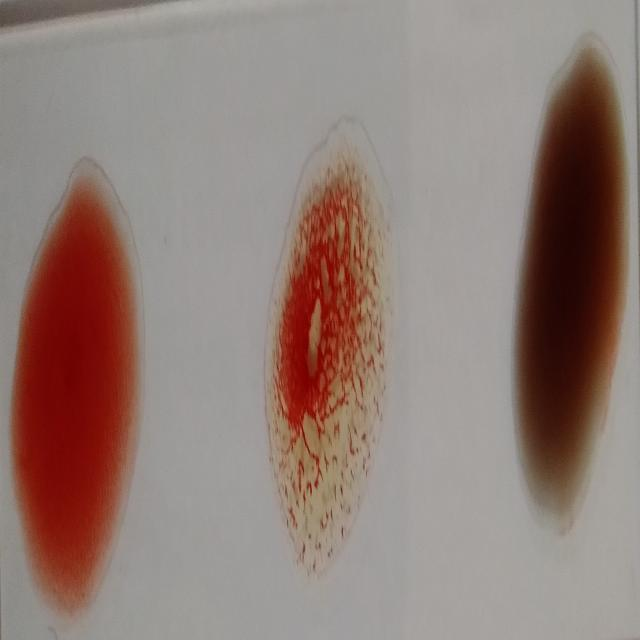B: (266, 135, 385, 580)
